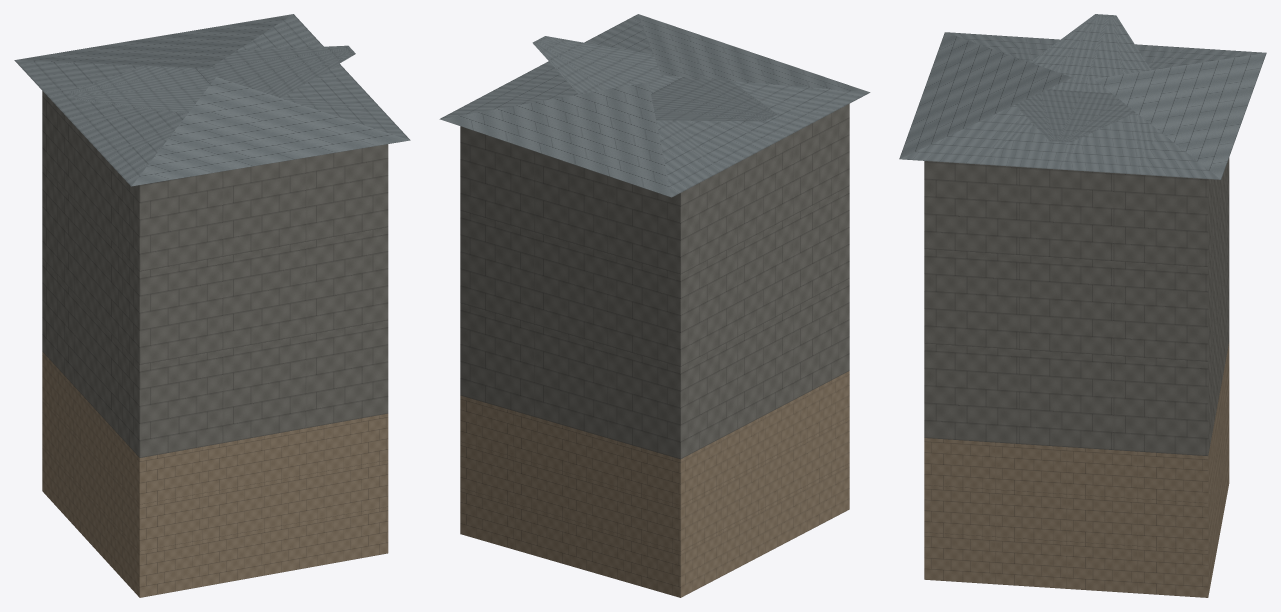
The model's file is bld_c10_27_404.gltf.
3 views of the same model, side by side, from view 1: azimuth 30°, elevation 25°; view 2: azimuth 150°, elevation 25°; view 3: azimuth 270°, elevation 25° (orthographic). The views are drawn at different scales.
Visible parts, largest first — view 1: bld_c10_27_404; view 2: bld_c10_27_404; view 3: bld_c10_27_404.
Part boxes in pixels (x1=…): bld_c10_27_404: x1=14, y1=14, x2=410, y2=597; bld_c10_27_404: x1=439, y1=14, x2=870, y2=597; bld_c10_27_404: x1=899, y1=14, x2=1266, y2=597.
Bounding box in the file's own units: 11.4 × 16.3 × 11.98.
Materials: 3 (3 with a texture image).
